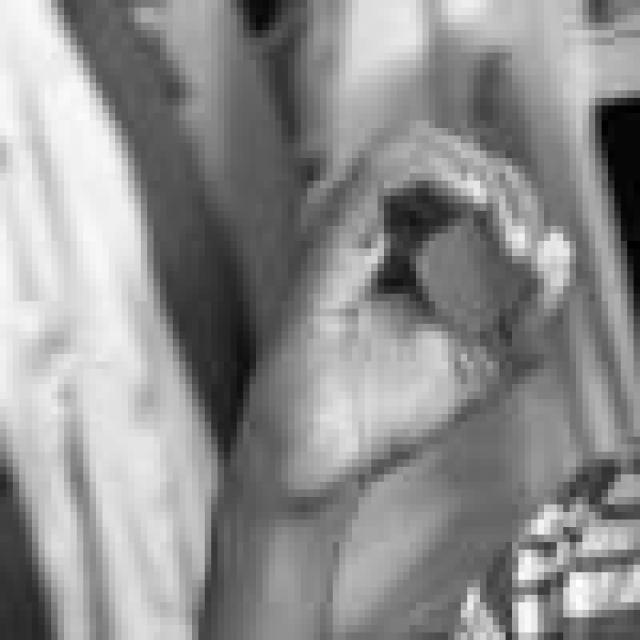O: (252, 113, 586, 474)
